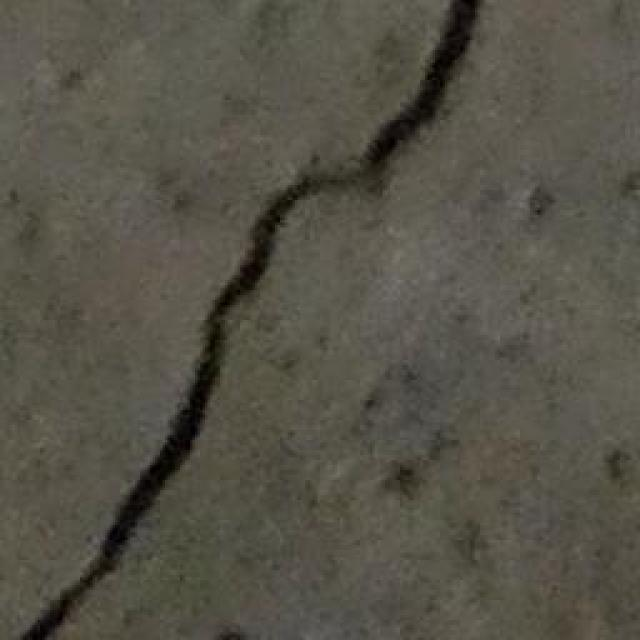Diagonal: (32, 0, 519, 640)
